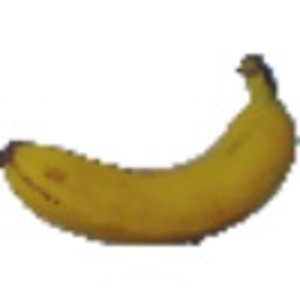banana: (4, 51, 297, 250)
